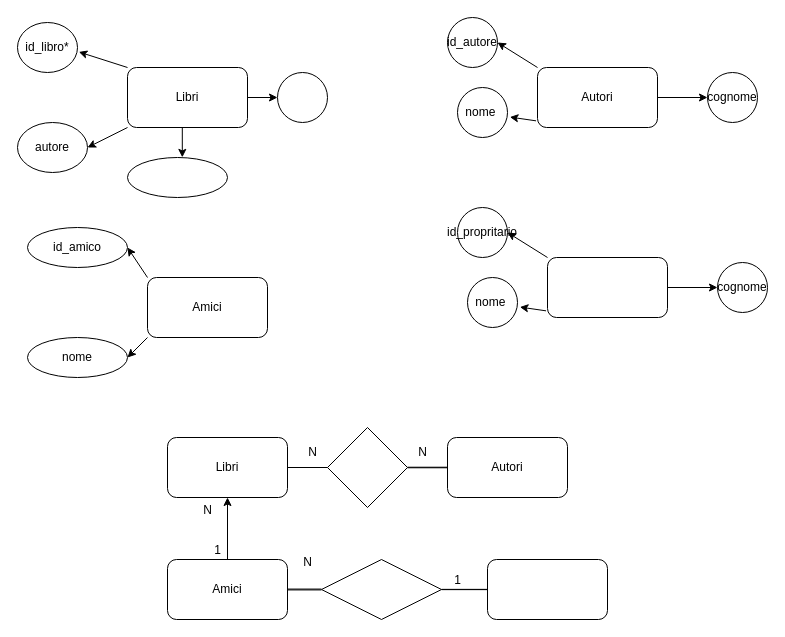
The diagram is 785 pixels wide and 637 high, and some of its shapes have lost their labels. Each missing label, with the box of its shape:
data: (126, 156, 228, 198)
genere: (276, 72, 328, 122)
prop: (486, 558, 608, 620)
Proprietario: (546, 256, 668, 318)
scrive: (326, 426, 408, 508)
